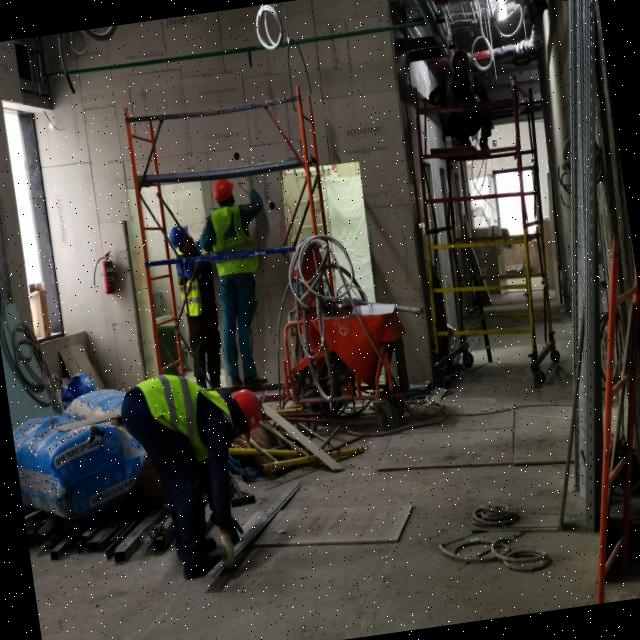Helmet: (234, 388, 267, 444), (213, 179, 238, 205), (170, 225, 192, 249), (453, 52, 472, 75)
Jacket: (141, 374, 232, 453), (209, 204, 255, 277), (443, 74, 487, 129), (179, 254, 207, 315)
